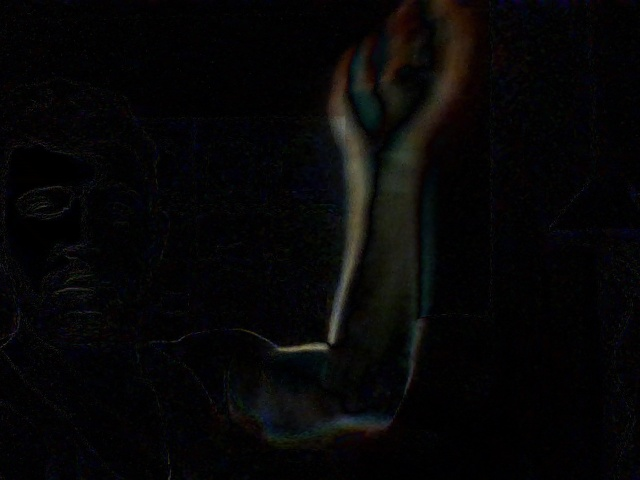arm_fo: (319, 1, 482, 412)
